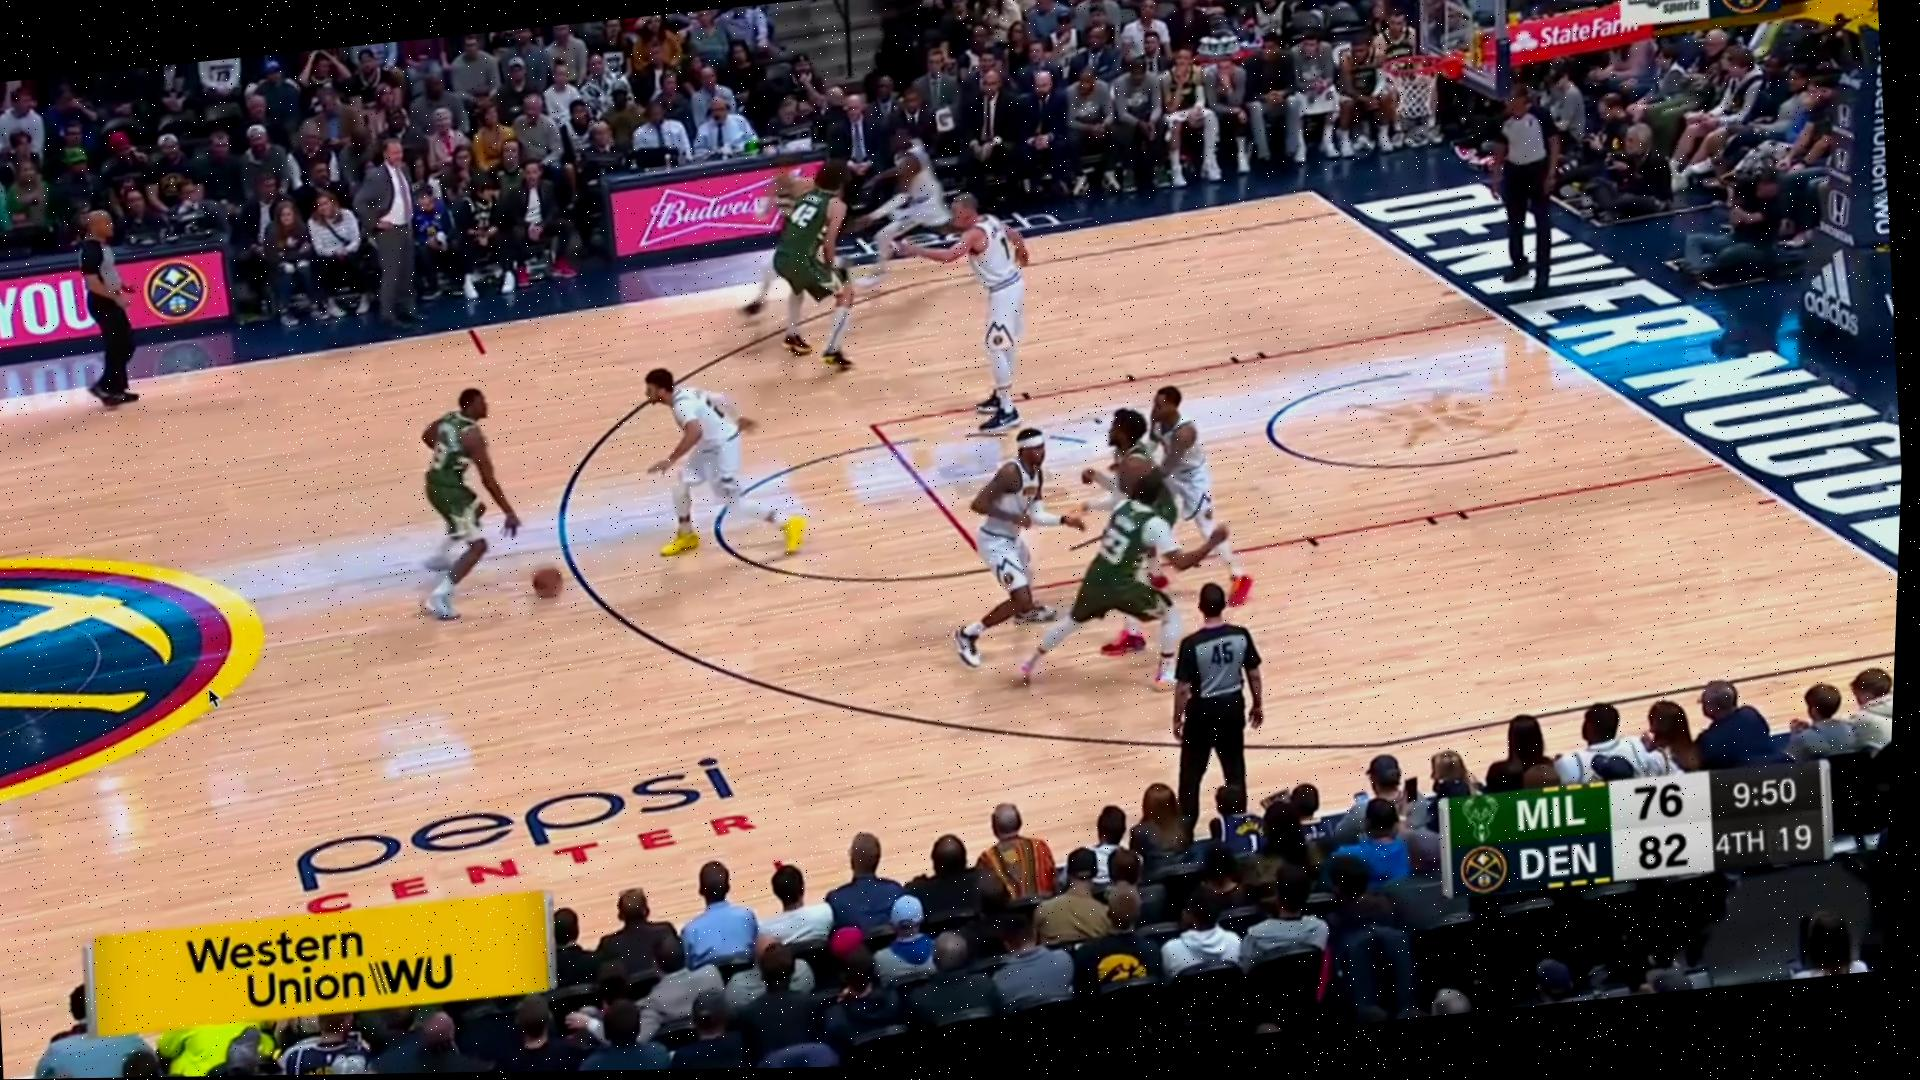no_foul: (972, 379, 1240, 621)
